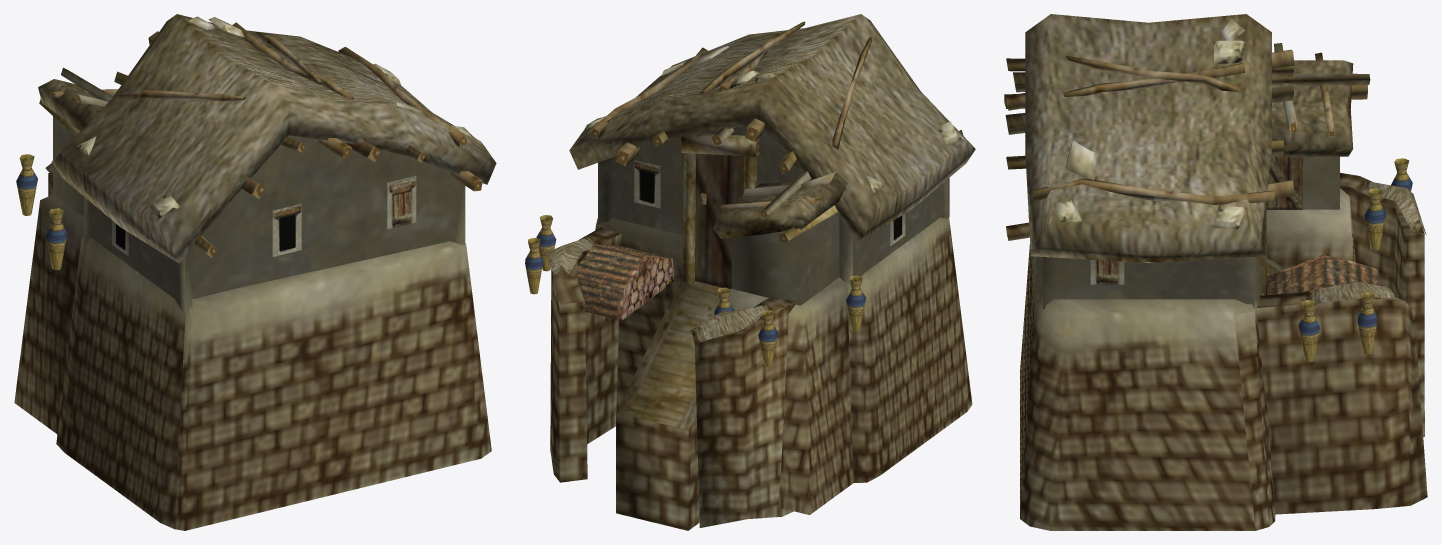
File: iber_house.glb
3 renders of one model, left to right at view 1: azimuth 30°, elevation 25°; view 2: azimuth 150°, elevation 25°; view 3: azimuth 270°, elevation 25°, orthographic. The views are drawn at different scales.
Parts seen in each view (by area): view 1: iber_house_part0, iber_house_part5, iber_house_part4; view 2: iber_house_part0, iber_house_part6, iber_house_part5, iber_house_part4, iber_house_part1, iber_house_part2; view 3: iber_house_part0, iber_house_part6, iber_house_part3, iber_house_part2, iber_house_part1.
Boxes of the visible parts, <box> form: iber_house_part0: <box>14,14,496,530</box>; iber_house_part5: <box>46,208,67,270</box>; iber_house_part4: <box>16,154,37,215</box>; iber_house_part0: <box>546,14,975,530</box>; iber_house_part6: <box>577,244,674,320</box>; iber_house_part5: <box>846,275,865,331</box>; iber_house_part4: <box>758,310,778,366</box>; iber_house_part1: <box>525,237,543,294</box>; iber_house_part2: <box>536,215,556,271</box>; iber_house_part0: <box>1004,14,1427,530</box>; iber_house_part6: <box>1264,255,1379,295</box>; iber_house_part3: <box>1364,188,1386,250</box>; iber_house_part2: <box>1298,300,1319,362</box>; iber_house_part1: <box>1357,292,1377,354</box>.
Size of the model in its own units: 2.25 by 2.76 by 2.4.
Materials: 3 (3 with a texture image).
